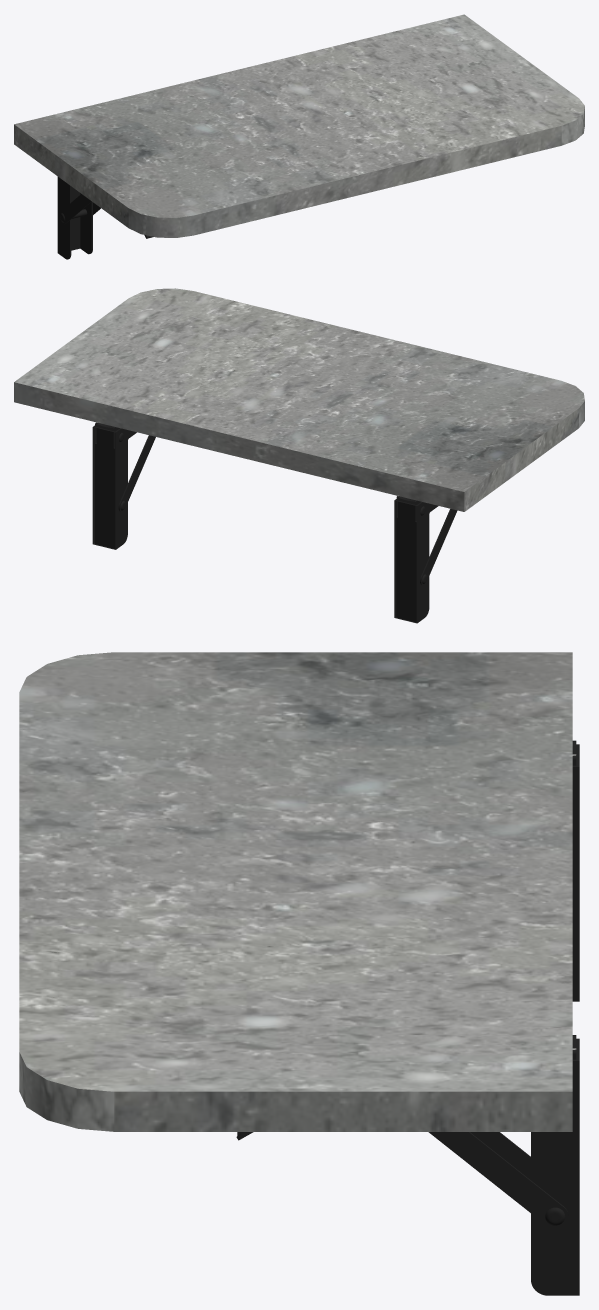
Rendered from countertop-extension-two.glb.
3 views of the same model, one above another, from view 1: azimuth 30°, elevation 25°; view 2: azimuth 150°, elevation 25°; view 3: azimuth 270°, elevation 25° (orthographic). The views are drawn at different scales.
Visible parts, largest first — view 1: Cube.020; view 2: Cube.020; view 3: Cube.020.
Boxes of the visible parts, bbox=[...] form: Cube.020: bbox=[14, 14, 584, 259]; Cube.020: bbox=[14, 288, 584, 623]; Cube.020: bbox=[19, 652, 579, 1295].
Size of the model in its own units: 0.4699 by 0.1408 by 0.2531.
Materials: 2 (1 with a texture image).
